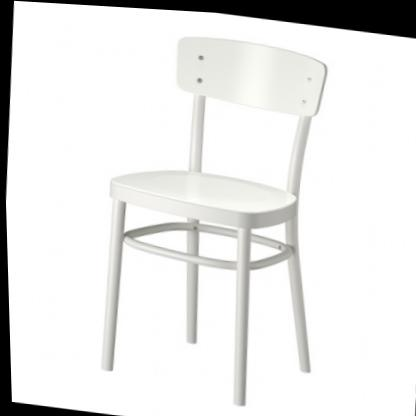Chair: (84, 20, 339, 416)
